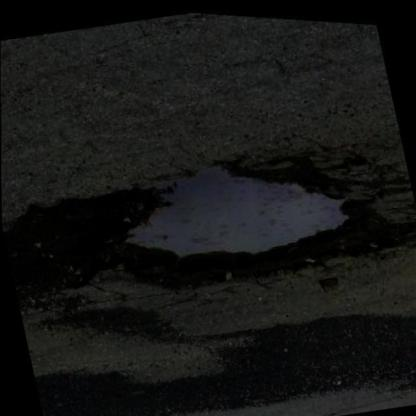pothole: (98, 113, 402, 310), (1, 174, 173, 309)
